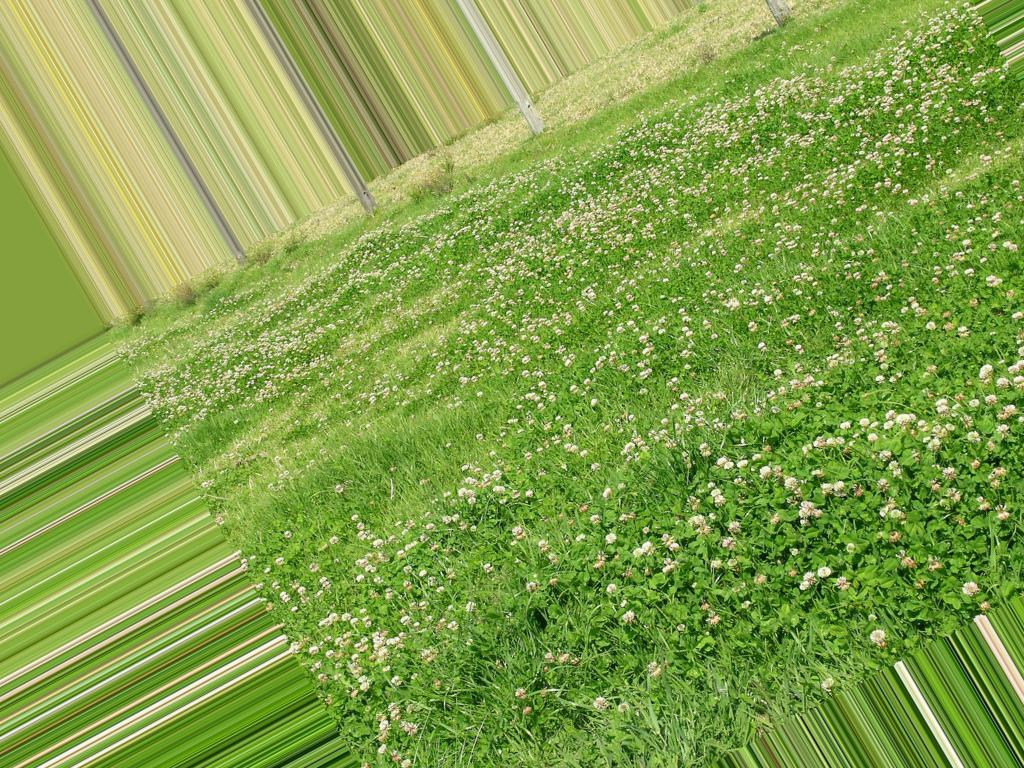patch: (592, 49, 727, 76), (467, 134, 535, 157)
